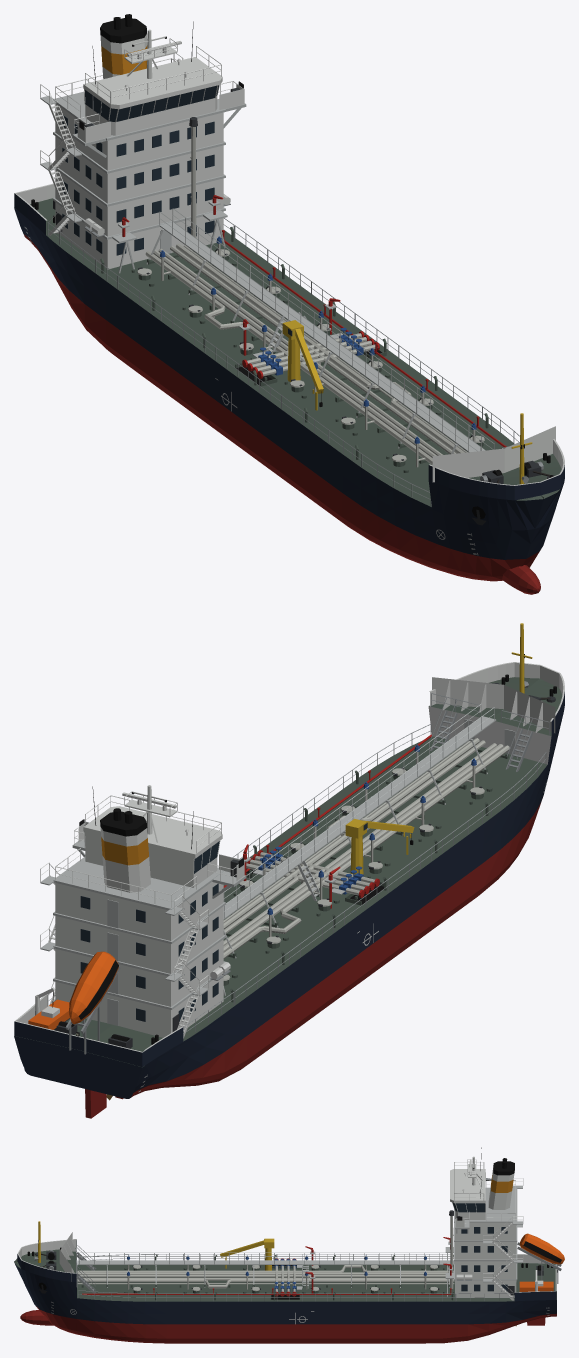
File: tanker_mid.glb
The picture shows the model from 3 angles, top to bottom: view 1: azimuth 30°, elevation 25°; view 2: azimuth 150°, elevation 25°; view 3: azimuth 270°, elevation 25°; orthographic projection. The views are drawn at different scales.
Visible parts, largest first — view 1: fixed, hull, deck, window, glass, funnel; view 2: fixed, deck, hull, window, funnel; view 3: fixed, hull, deck, window, glass, funnel.
Part boxes in pixels (x1=…): fixed: x1=14, y1=14, x2=564, y2=594; hull: x1=14, y1=193, x2=564, y2=559; deck: x1=30, y1=198, x2=561, y2=506; window: x1=62, y1=115, x2=214, y2=255; glass: x1=85, y1=85, x2=292, y2=336; funnel: x1=101, y1=45, x2=147, y2=74; fixed: x1=14, y1=623, x2=564, y2=1118; deck: x1=16, y1=677, x2=562, y2=1067; hull: x1=14, y1=692, x2=564, y2=1098; window: x1=80, y1=883, x2=218, y2=1021; funnel: x1=101, y1=837, x2=148, y2=865; fixed: x1=17, y1=1147, x2=564, y2=1343; hull: x1=14, y1=1254, x2=556, y2=1324; deck: x1=14, y1=1248, x2=556, y2=1301; window: x1=461, y1=1227, x2=507, y2=1291; glass: x1=264, y1=1203, x2=485, y2=1239; funnel: x1=491, y1=1175, x2=513, y2=1192.
Bounding box in the file's own units: 12.8 × 22 × 64.95.
